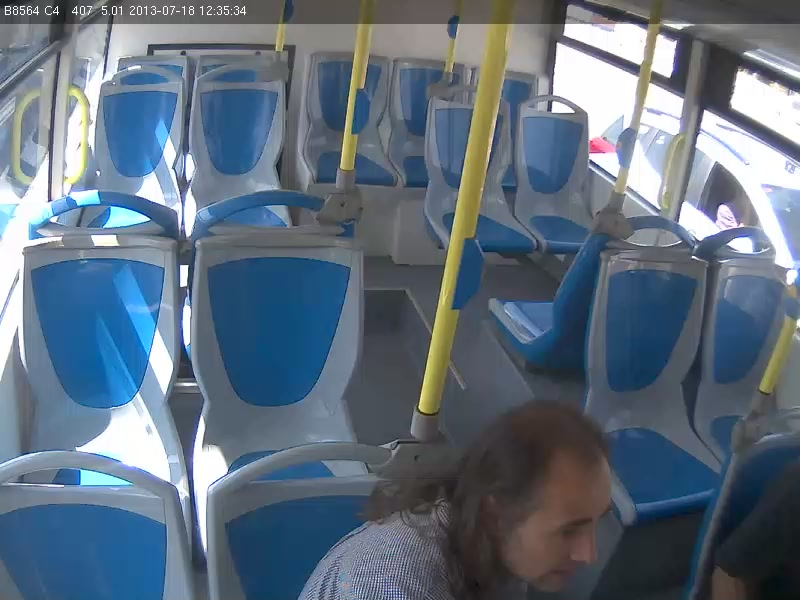Head: (466, 394, 629, 599)
